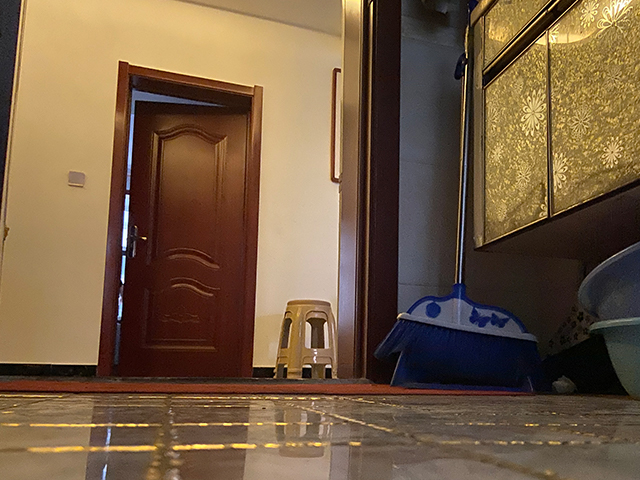carpet: (1, 378, 534, 397)
stool: (271, 299, 337, 379)
